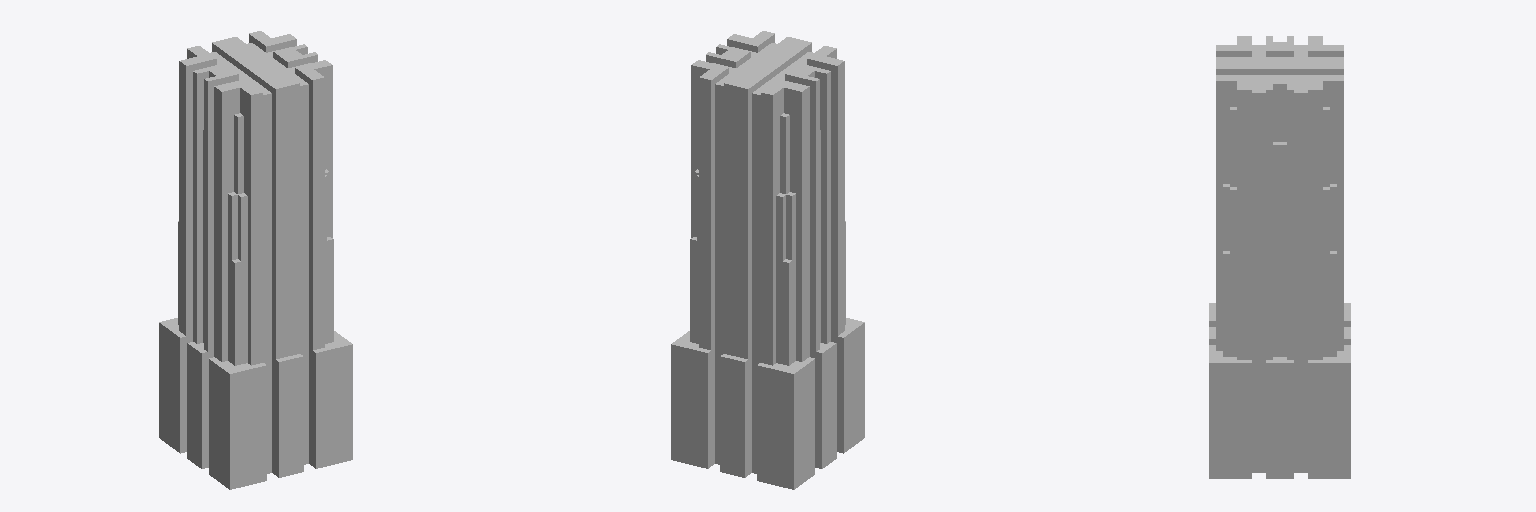
The model's file is tower.obj.
3 views of the same model, side by side, from view 1: azimuth 30°, elevation 25°; view 2: azimuth 150°, elevation 25°; view 3: azimuth 270°, elevation 25° (orthographic).
Parts seen in each view (by area): view 1: object 1; view 2: object 1; view 3: object 1.
Boxes of the visible parts, <box> form: object 1: <box>159,31,352,489</box>; object 1: <box>671,31,864,489</box>; object 1: <box>1209,36,1350,478</box>.
Bounding box in the file's own units: 2 × 6 × 2.